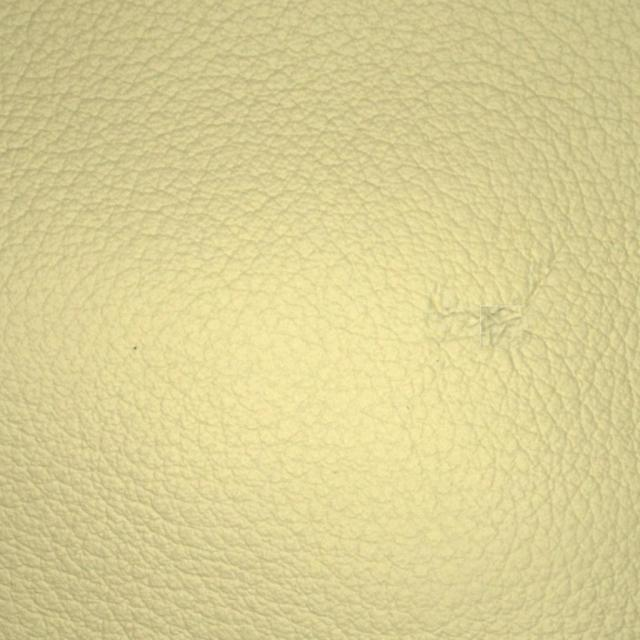Bacterial Injury: (383, 260, 592, 400)
